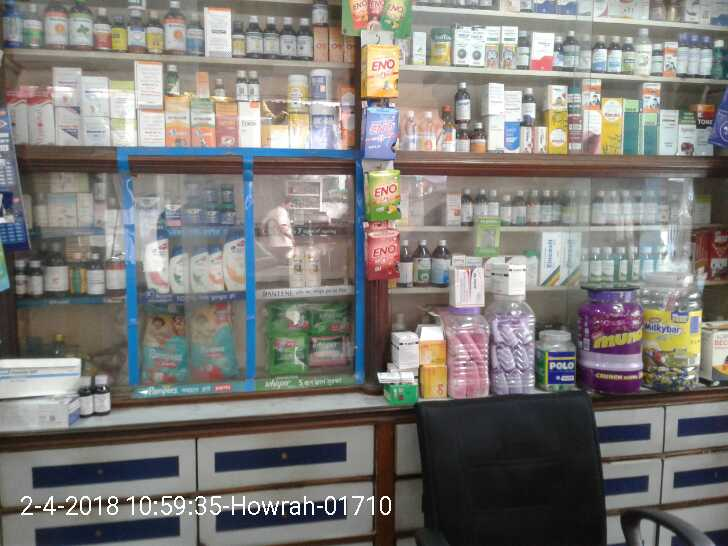vicks: (161, 175, 241, 223)
